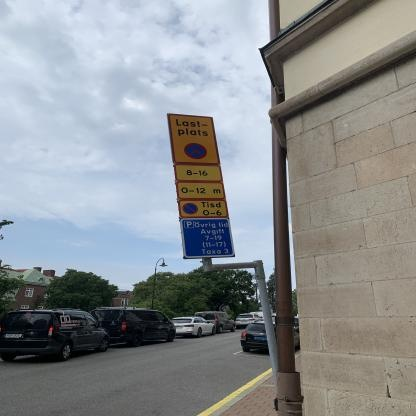lastplats: (165, 112, 223, 166)
